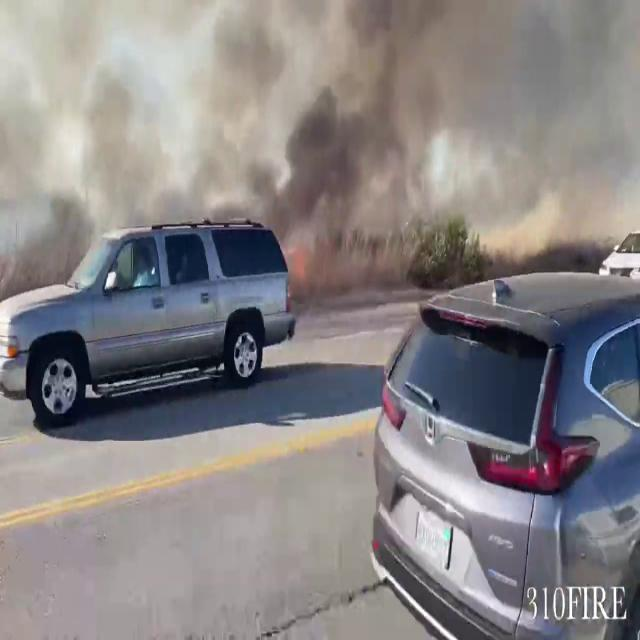Smoke: (1, 0, 536, 259), (148, 0, 640, 254), (0, 0, 163, 266)
